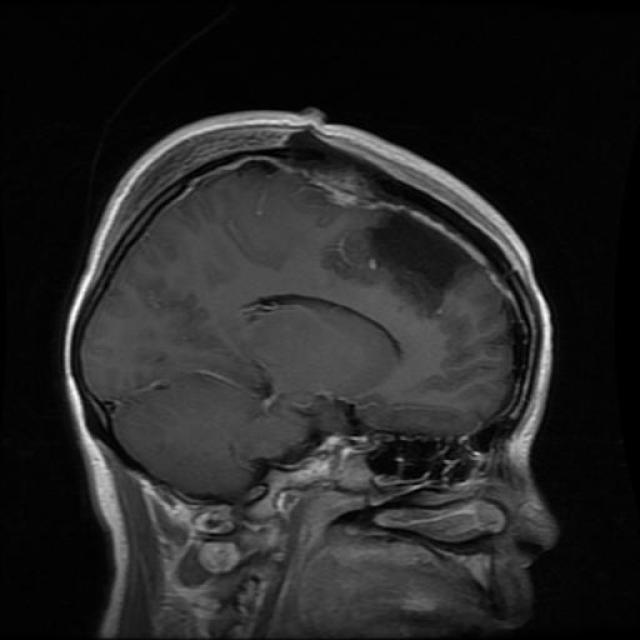glioma: (324, 195, 464, 342)
